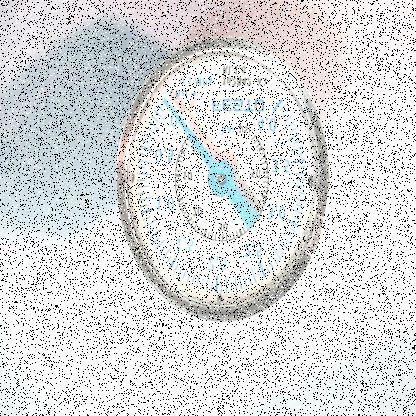needle: (162, 95, 217, 172)
